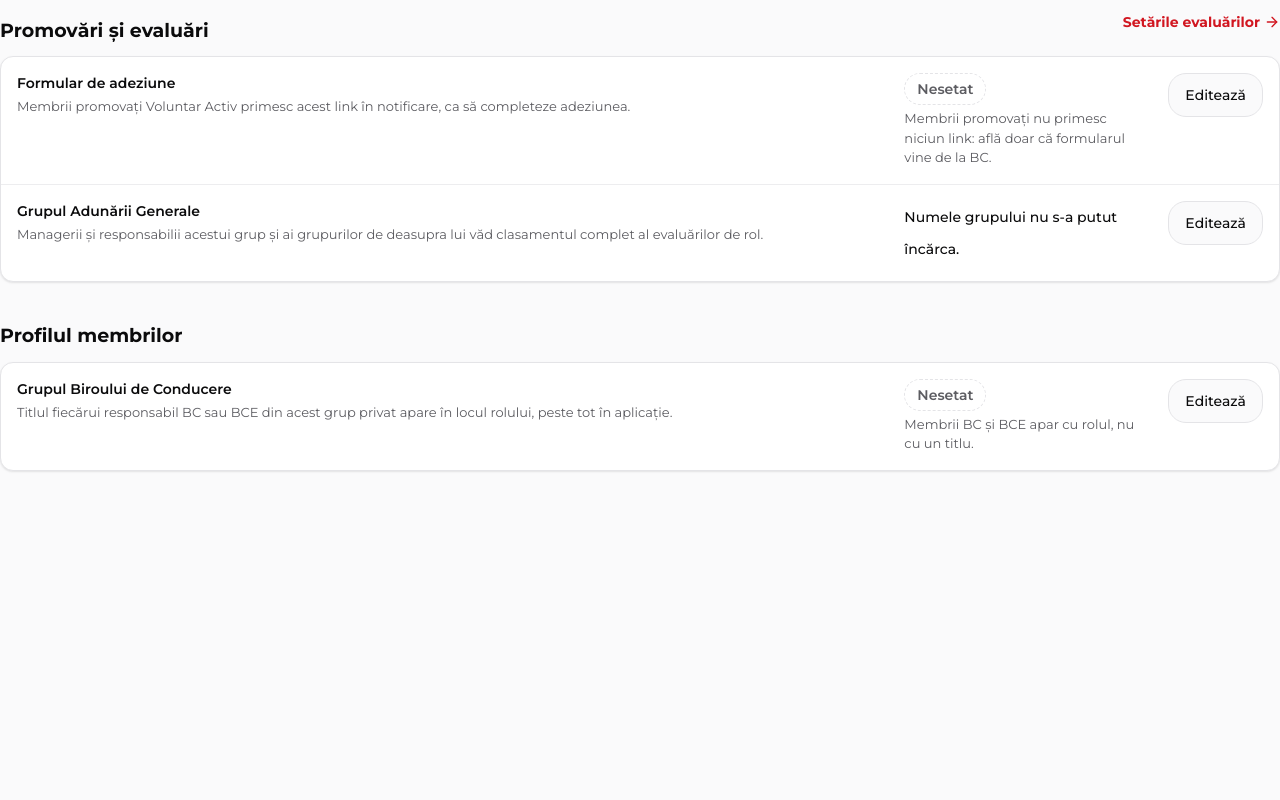
Test case: lets the editor be left when the Groups cannot be loaded
This screenshot has width=1280, height=800.
Expected: the text "Numele grupului nu s-a putut încărca." is shown, x1=904 y1=200 x2=1144 y2=264
Click the button with aria-label "Editează Grupul Adunării Generale". click: (1216, 222)
box: x1=1168 y1=200 x2=1263 y2=244
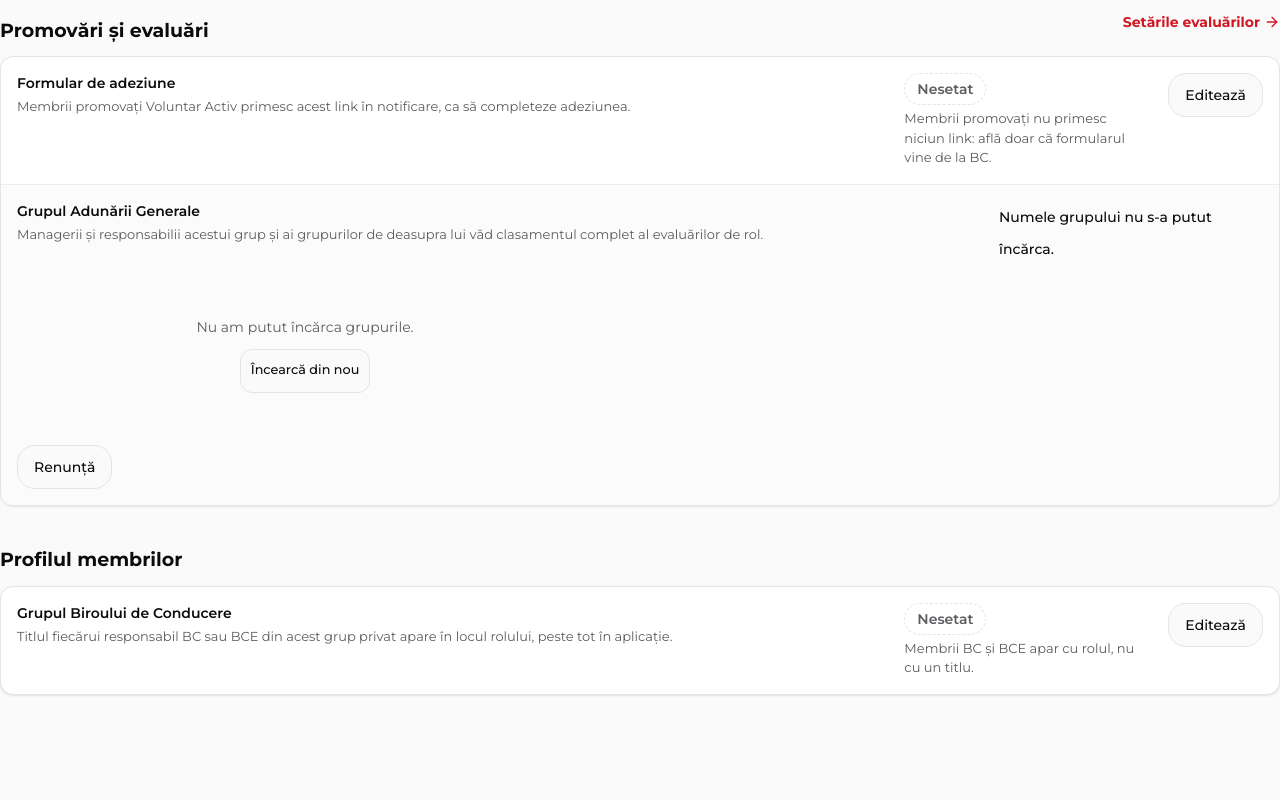
Now the message shows "Nu am putut încărca grupurile.", box x1=196 y1=318 x2=414 y2=336
Click the button "Încearcă din nou". click: (305, 370)
box: x1=240 y1=348 x2=370 y2=392
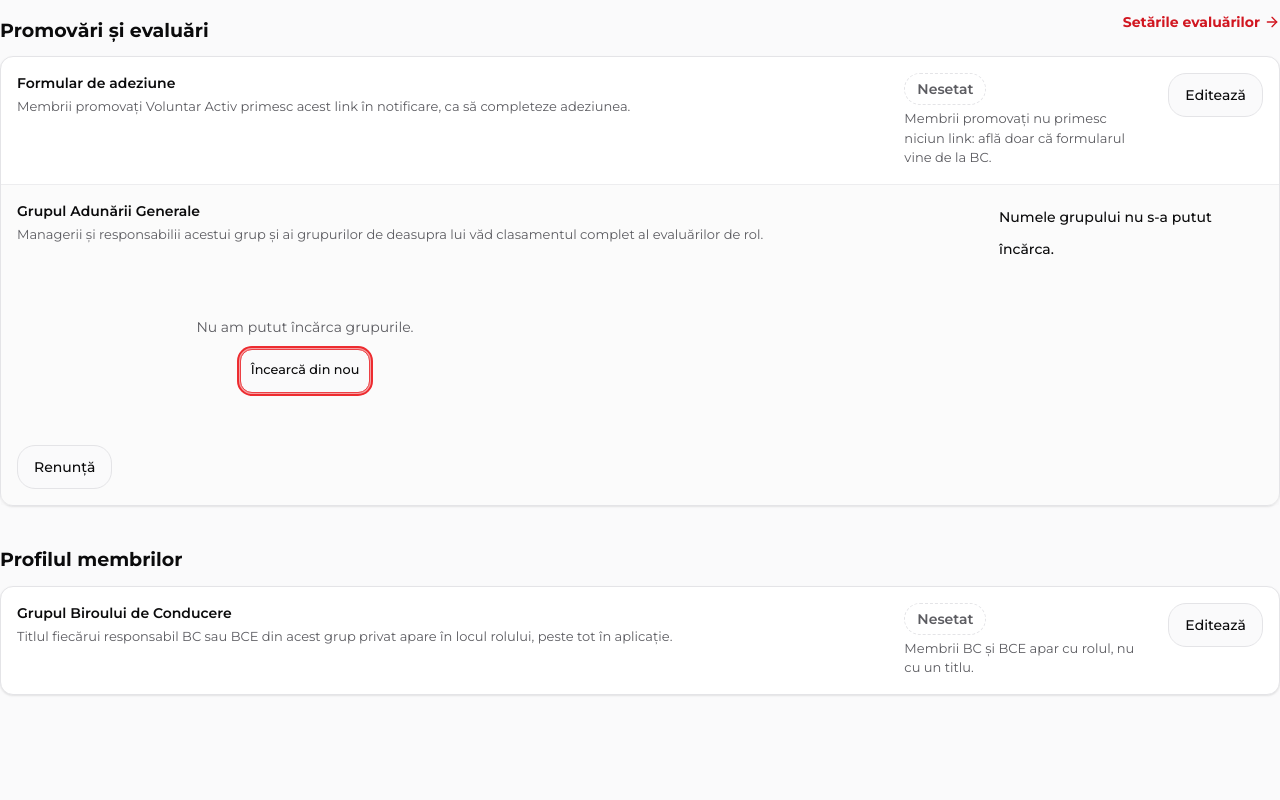
Click the button "Renunță". click: (65, 466)
box: x1=17 y1=444 x2=112 y2=488
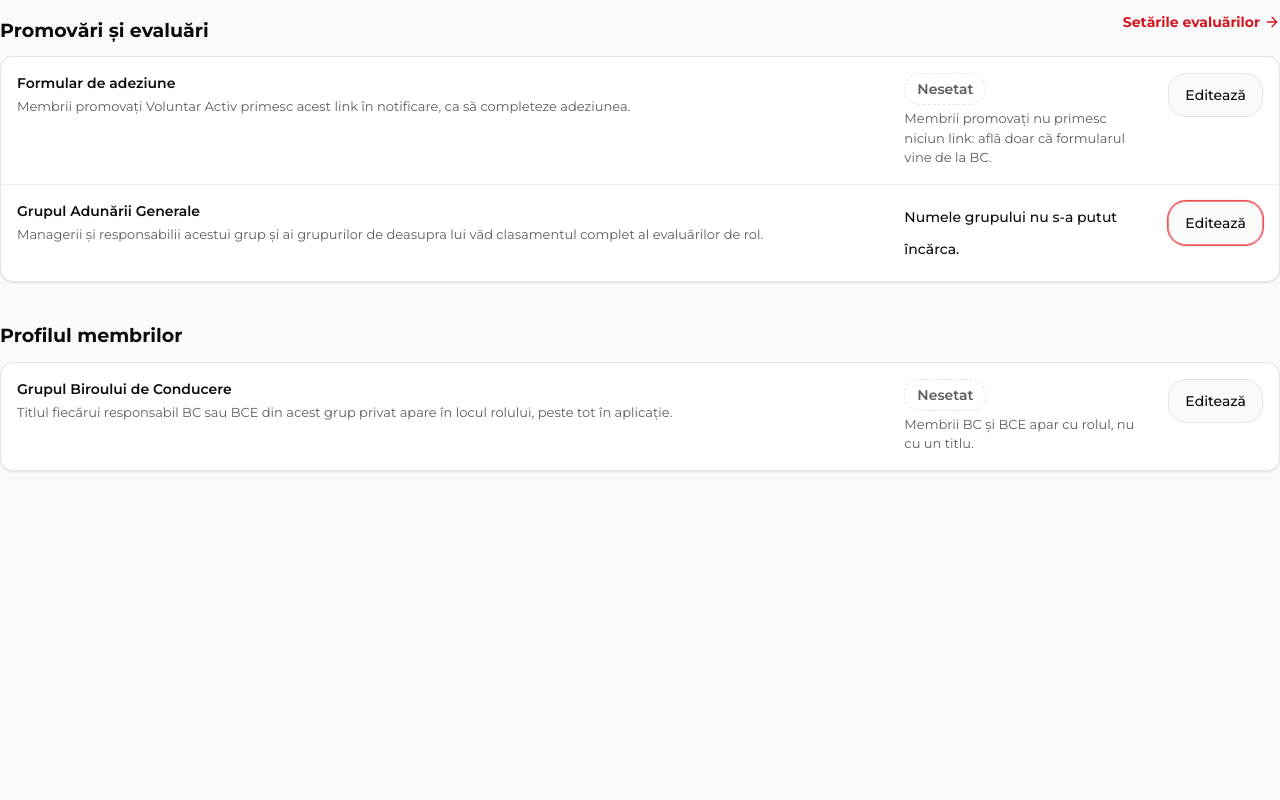
Now the message "Nu am putut încărca grupurile. Încearcă din nou" is gone
